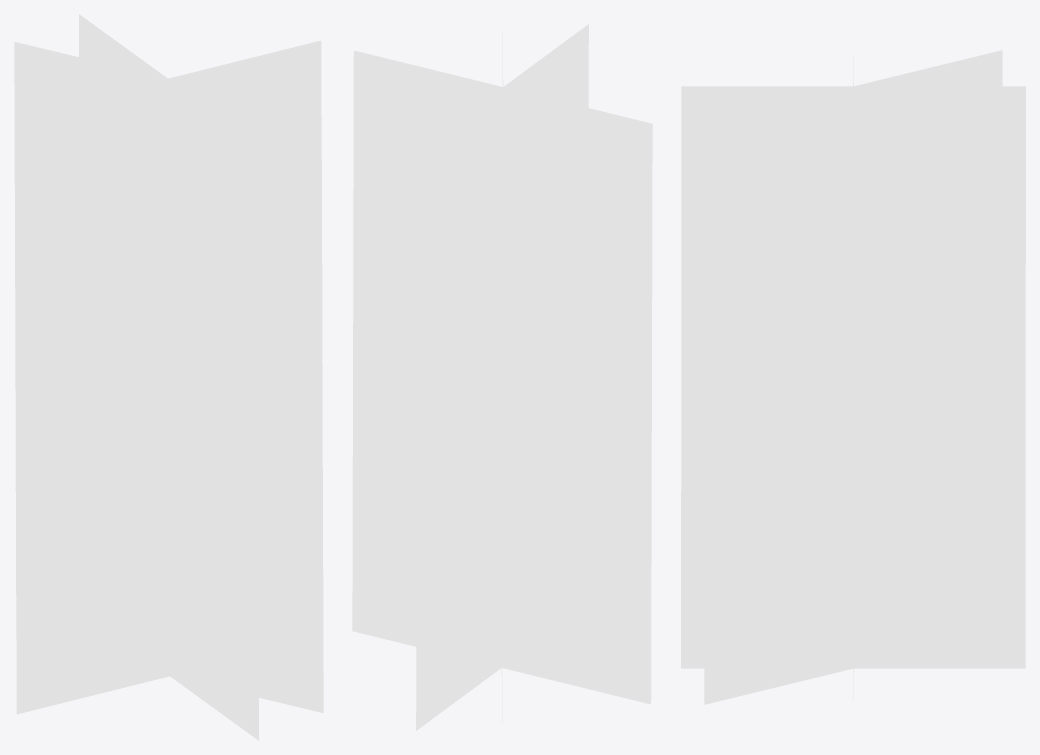
The model's file is GrassLong.fbx.
3 renders of one model, left to right at view 1: azimuth 30°, elevation 25°; view 2: azimuth 150°, elevation 25°; view 3: azimuth 270°, elevation 25°, orthographic. The views are drawn at different scales.
Visible parts, largest first — view 1: GrassLong; view 2: GrassLong; view 3: GrassLong.
Boxes of the visible parts, x1,y1,x2,y2 form: GrassLong: [14, 14, 323, 740]; GrassLong: [352, 24, 652, 730]; GrassLong: [681, 50, 1025, 704].
Bounding box in the file's own units: 32.71 × 60.69 × 32.57.
